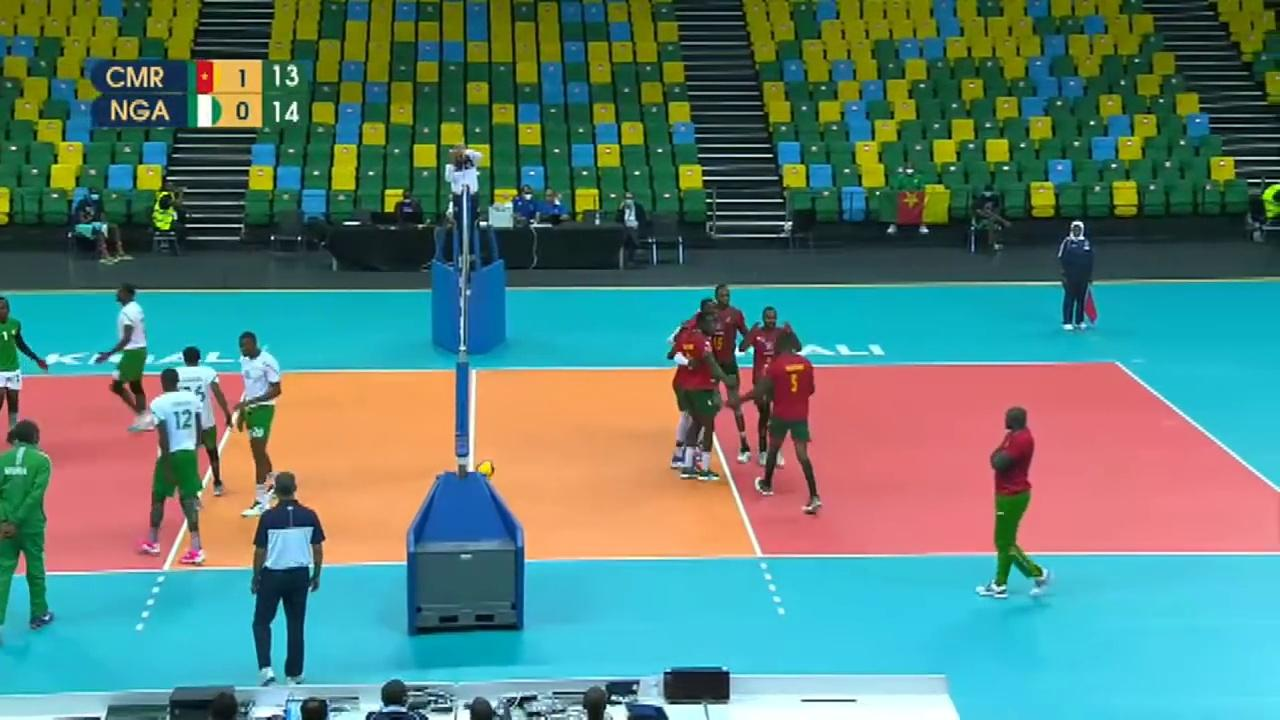player: (137, 369, 208, 564), (762, 336, 818, 510), (233, 331, 286, 511), (171, 346, 230, 494), (747, 307, 801, 465), (703, 284, 751, 459), (669, 301, 719, 469), (92, 287, 150, 429), (0, 295, 49, 442), (683, 314, 725, 480)
refree: (246, 468, 329, 689), (443, 141, 484, 256), (1059, 221, 1099, 331)
